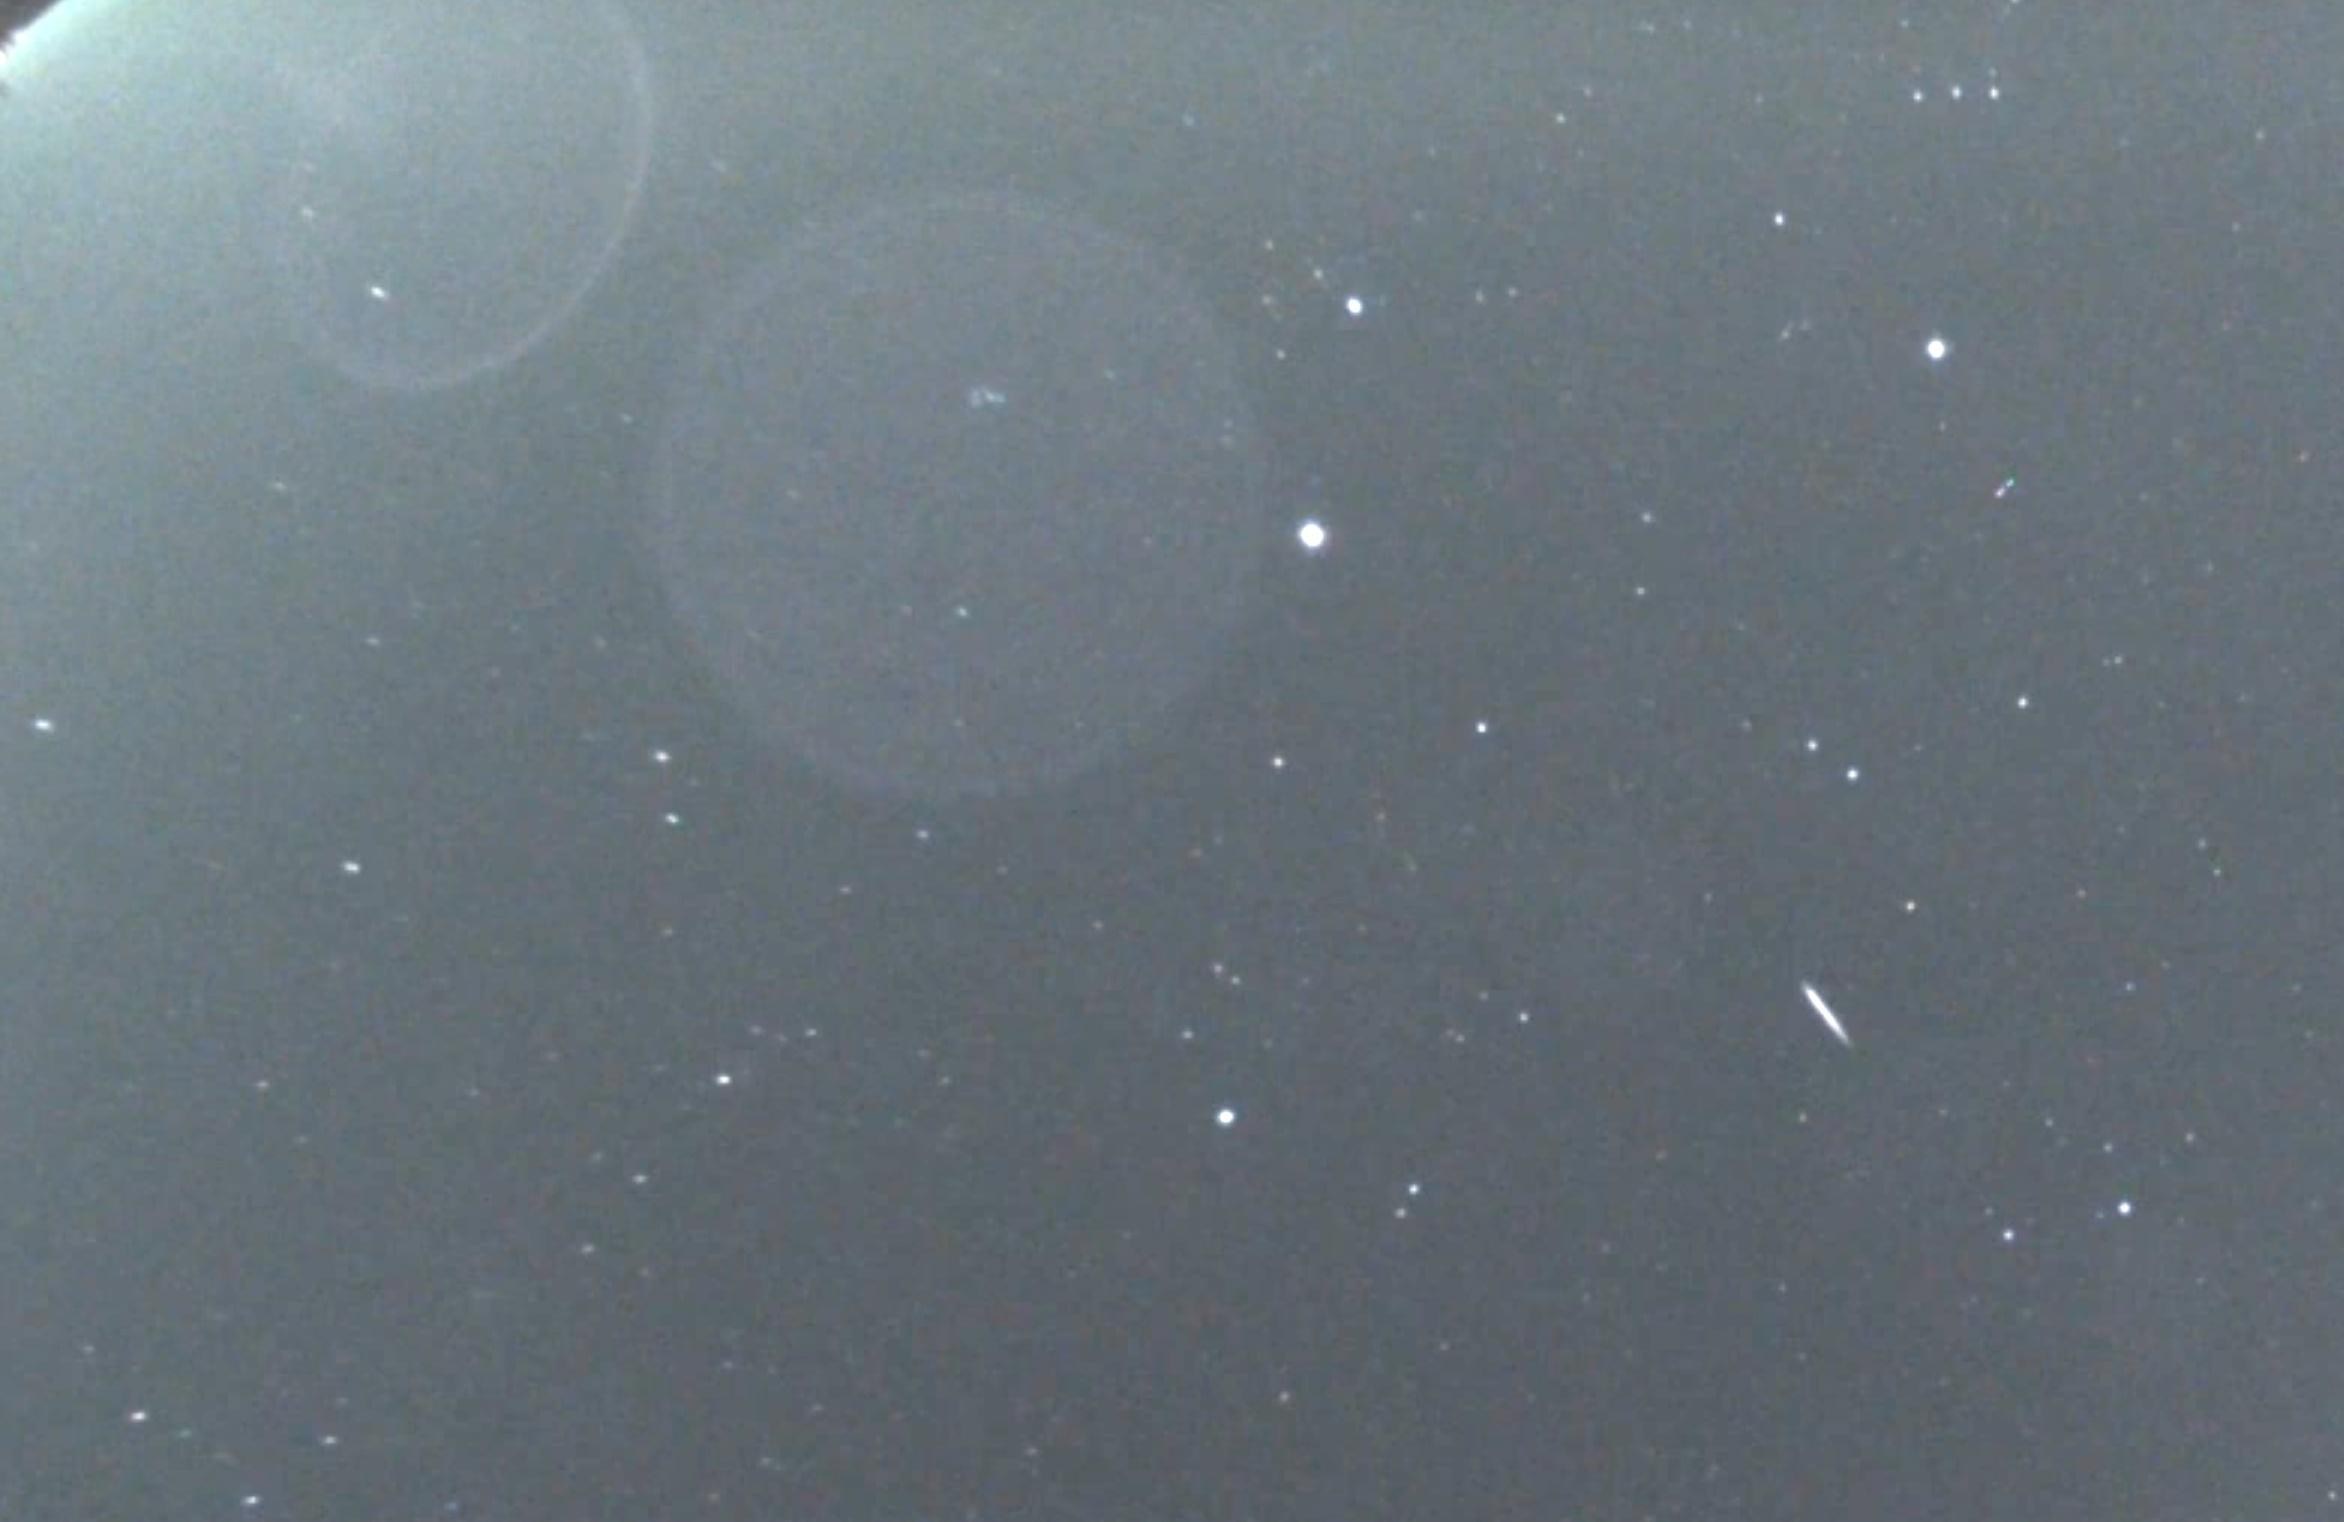meteorite: (1732, 975, 1915, 1052)
